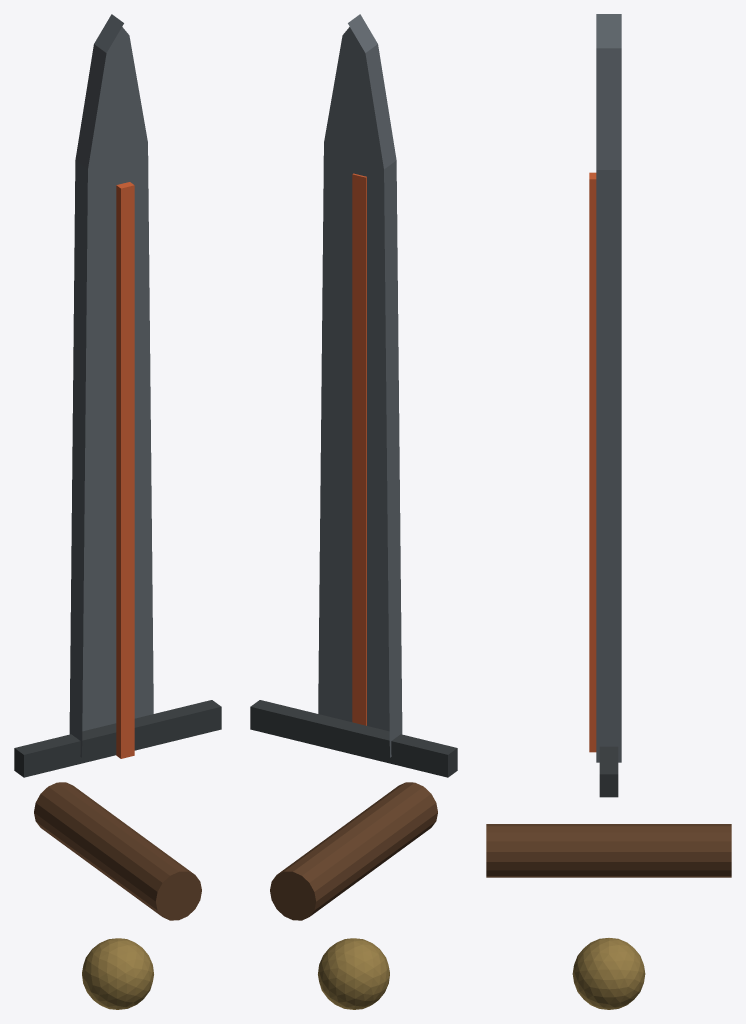
Rendered from greatsword.glb.
3 renders of one model, left to right at view 1: azimuth 30°, elevation 25°; view 2: azimuth 150°, elevation 25°; view 3: azimuth 270°, elevation 25°, orthographic.
Visible parts, largest first — view 1: greatsword_2, greatsword_4, greatsword_0, greatsword_1, greatsword_3; view 2: greatsword_2, greatsword_0, greatsword_4, greatsword_1, greatsword_3; view 3: greatsword_2, greatsword_0, greatsword_4, greatsword_3, greatsword_1.
Boxes of the visible parts, x1,y1,x2,y2 form: greatsword_2: (69,14,153,757); greatsword_4: (116,182,134,758); greatsword_0: (34,782,201,920); greatsword_1: (14,700,221,777); greatsword_3: (82,938,153,1009); greatsword_2: (318,14,402,757); greatsword_0: (270,782,437,920); greatsword_4: (352,173,366,725); greatsword_1: (250,700,457,777); greatsword_3: (318,938,389,1009); greatsword_2: (596,14,621,762); greatsword_0: (486,824,731,877); greatsword_4: (589,172,596,752); greatsword_3: (572,938,645,1009); greatsword_1: (599,746,618,797).
Bounding box in the file's own units: 1.45 × 6.93 × 1.55.
